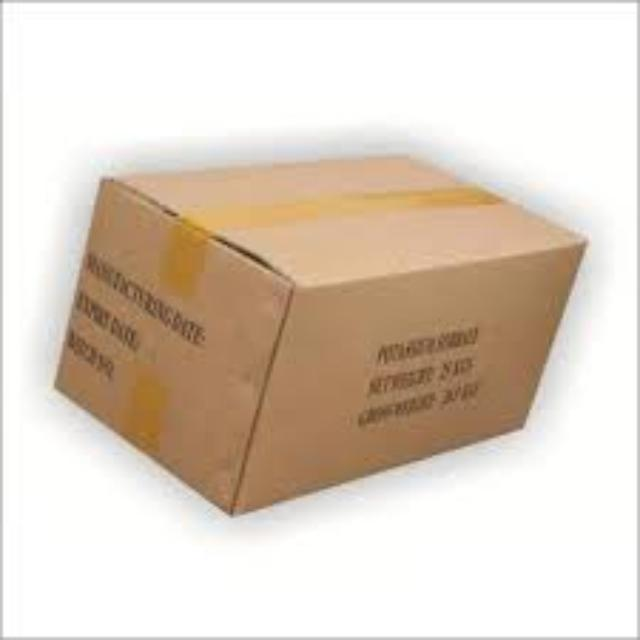cardboard paper: (54, 154, 580, 506)
